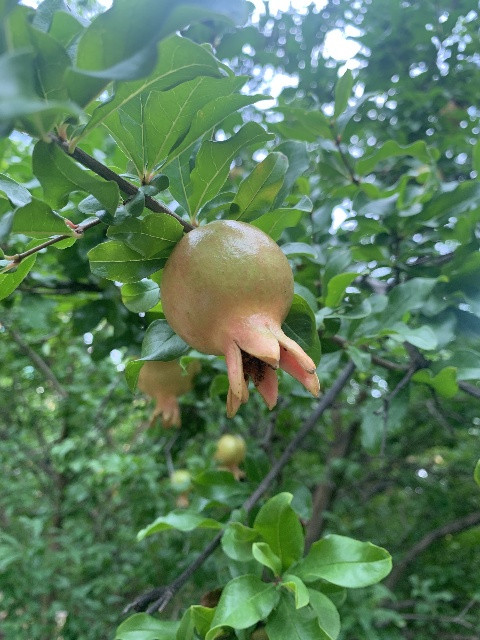mid-growth: (160, 219, 321, 416), (137, 357, 200, 429), (212, 433, 247, 481), (171, 470, 193, 508)
